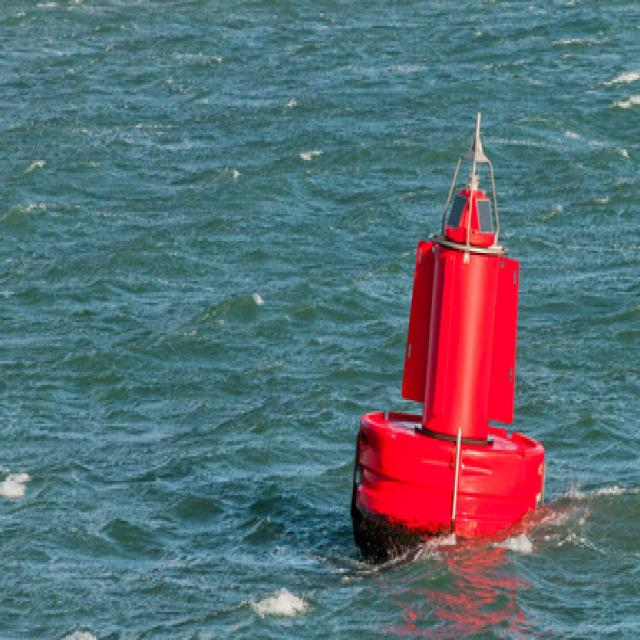buoy: (348, 106, 549, 558)
